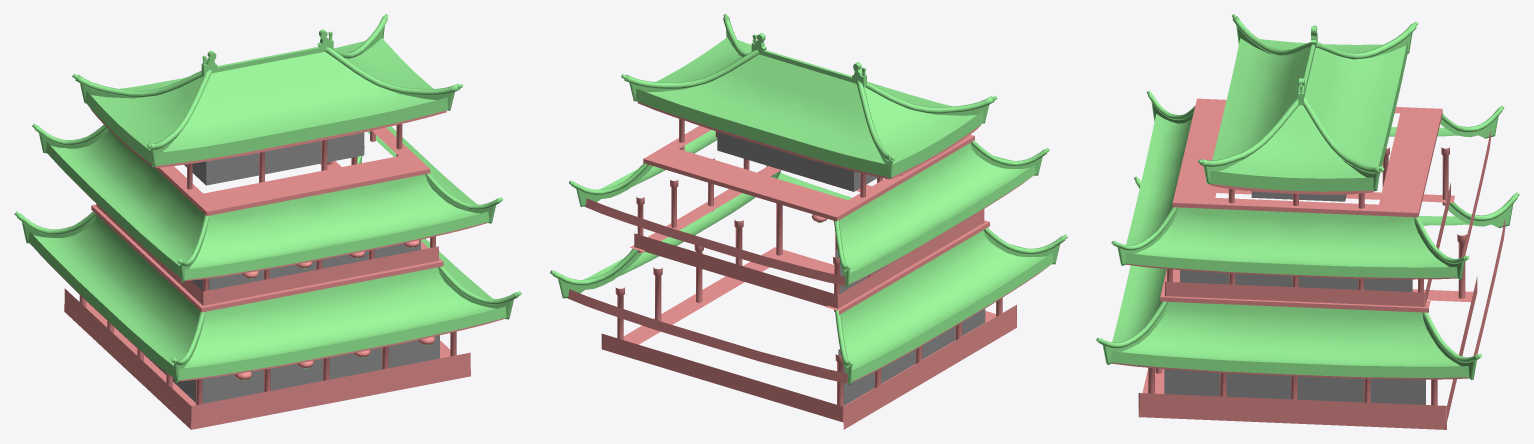
Rendered from CHN_OOB_Building04_CMB.gltf.
3 renders of one model, left to right at view 1: azimuth 30°, elevation 25°; view 2: azimuth 150°, elevation 25°; view 3: azimuth 270°, elevation 25°, orthographic. The views are drawn at different scales.
Parts seen in each view (by area): view 1: CHN_OOB_Building04_CMB; view 2: CHN_OOB_Building04_CMB; view 3: CHN_OOB_Building04_CMB.
Part boxes in pixels (bbox=[...]): CHN_OOB_Building04_CMB: bbox=[14, 14, 521, 429]; CHN_OOB_Building04_CMB: bbox=[550, 14, 1067, 429]; CHN_OOB_Building04_CMB: bbox=[1096, 14, 1519, 429].
Bounding box in the file's own units: 43.63 × 34.74 × 43.57.
